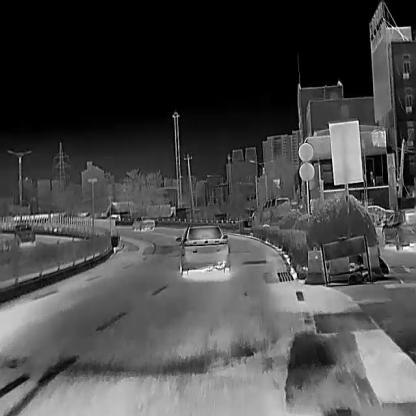car: (179, 222, 230, 275), (380, 209, 416, 250), (261, 198, 291, 214), (364, 205, 393, 221), (130, 214, 155, 231), (13, 223, 36, 241)
